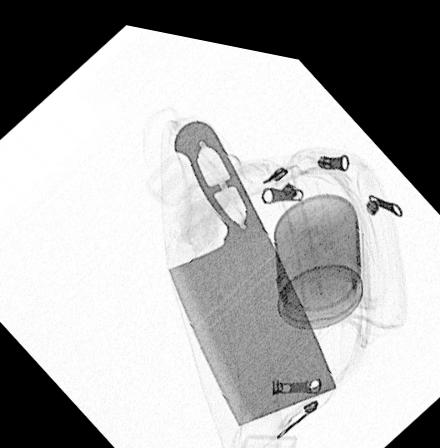Knife: (168, 109, 339, 417)
